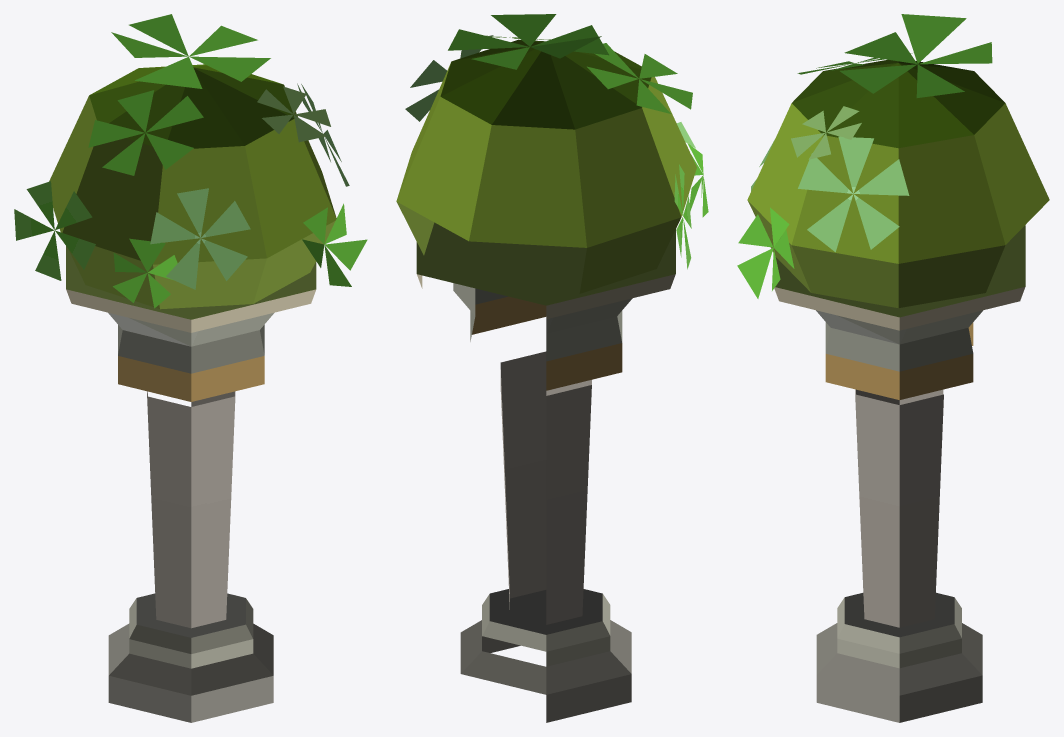
The model's file is city-decor01.fbx.
3 views of the same model, side by side, from view 1: azimuth 30°, elevation 25°; view 2: azimuth 150°, elevation 25°; view 3: azimuth 270°, elevation 25° (orthographic). The views are drawn at different scales.
Visible parts, largest first — view 1: city-decor01; view 2: city-decor01; view 3: city-decor01.
Part boxes in pixels (x1=…): city-decor01: x1=14, y1=14, x2=367, y2=722; city-decor01: x1=396, y1=14, x2=708, y2=722; city-decor01: x1=737, y1=14, x2=1049, y2=722.
Size of the model in its own units: 0.4628 by 0.9738 by 0.4304.
1 material, 1 textured.
